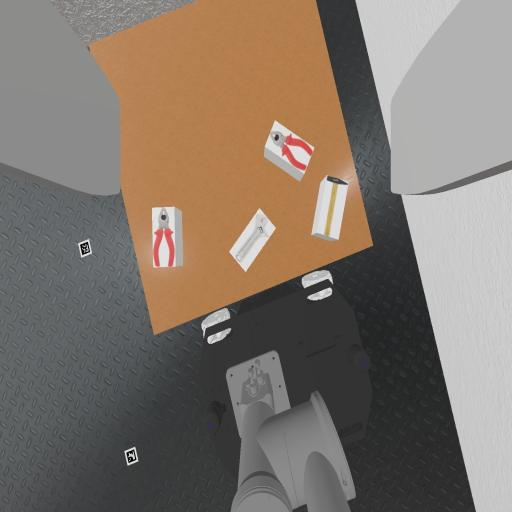hammer: (325, 176, 348, 235)
pliers: (271, 132, 312, 171), (153, 208, 174, 266)
wrench: (236, 215, 267, 261)
